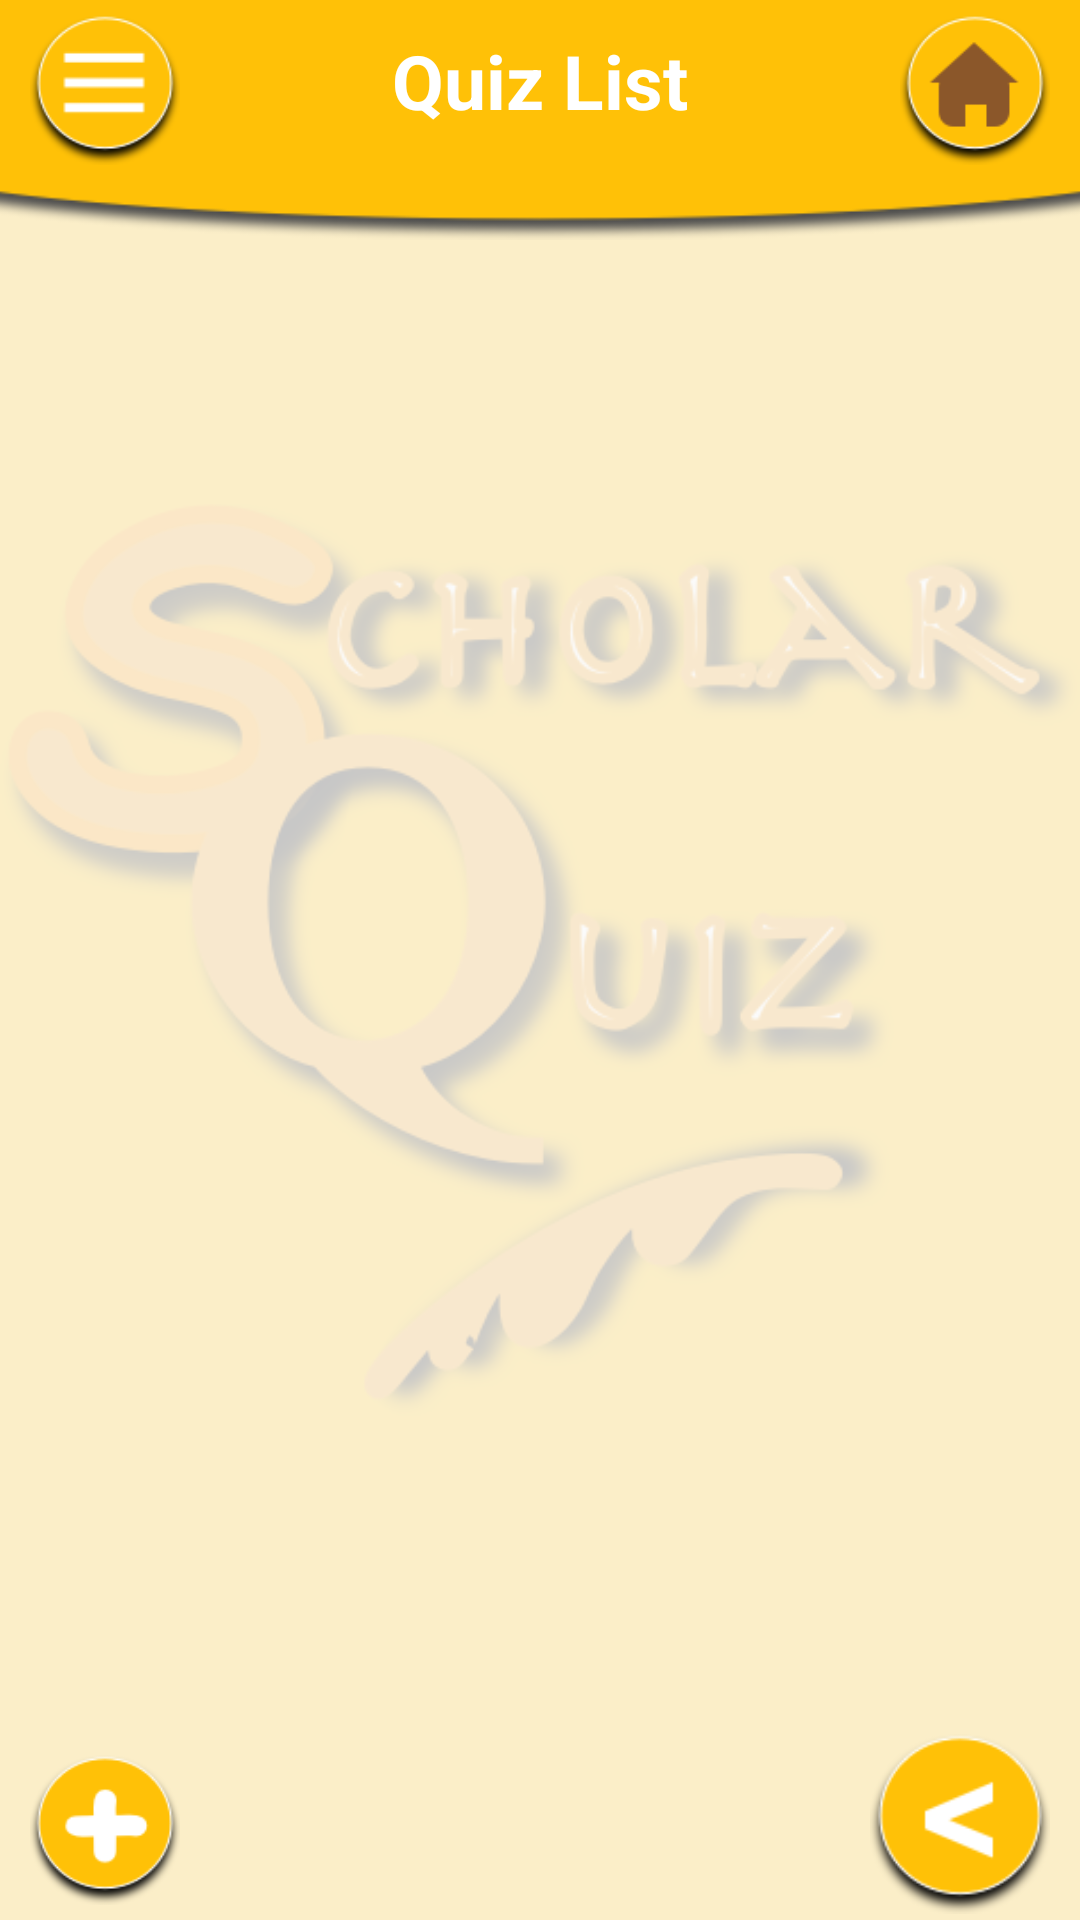

Icons on this 1080*1920 Android screen, each with its box as rect(x1, y1, x2, y2):
addbutton: rect(33, 1758, 177, 1902)
backbutton: rect(873, 1738, 1047, 1910)
home brown: rect(903, 16, 1047, 162)
menubutton: rect(33, 16, 177, 162)
